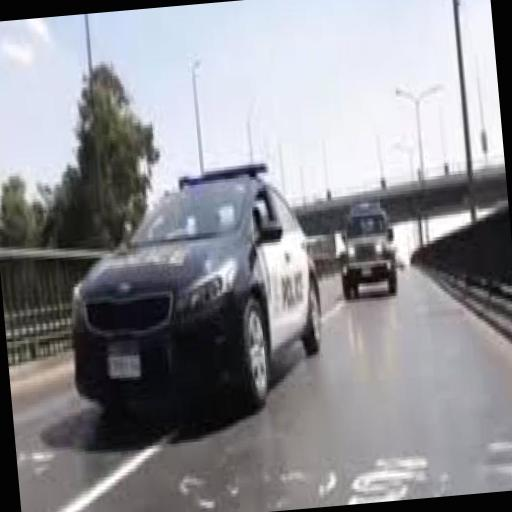Ambulance: (54, 156, 330, 416), (333, 200, 404, 304)
